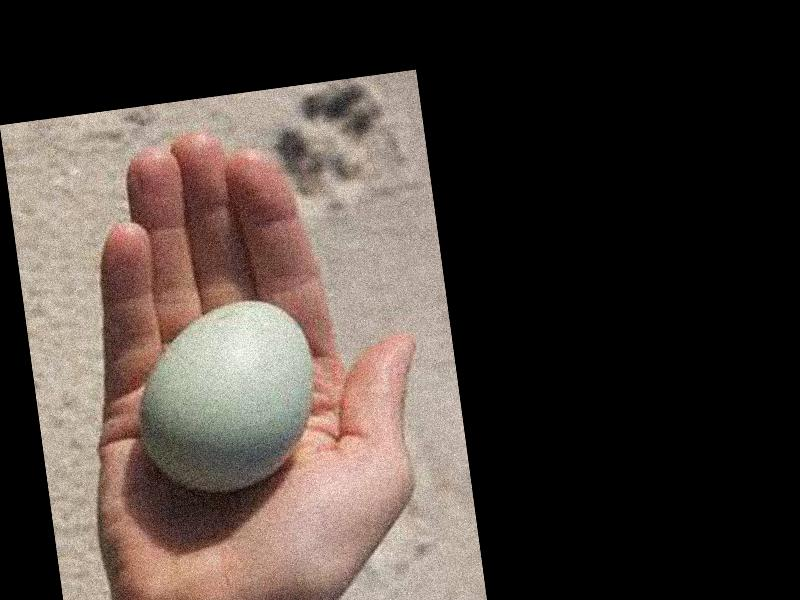Eggs: (127, 291, 325, 497)
